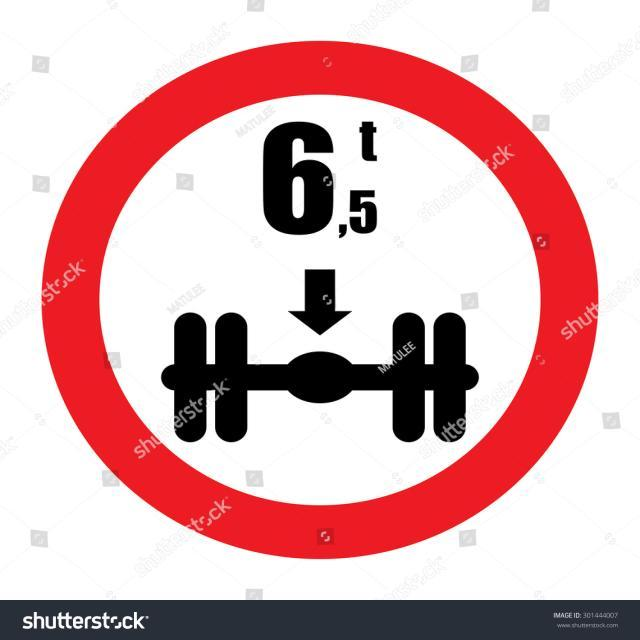axle load limit: (43, 42, 599, 562)
